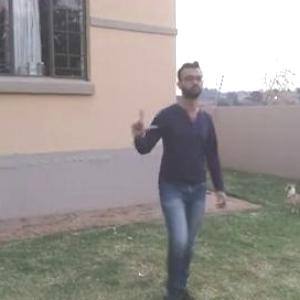land_hand: (127, 104, 160, 142)
